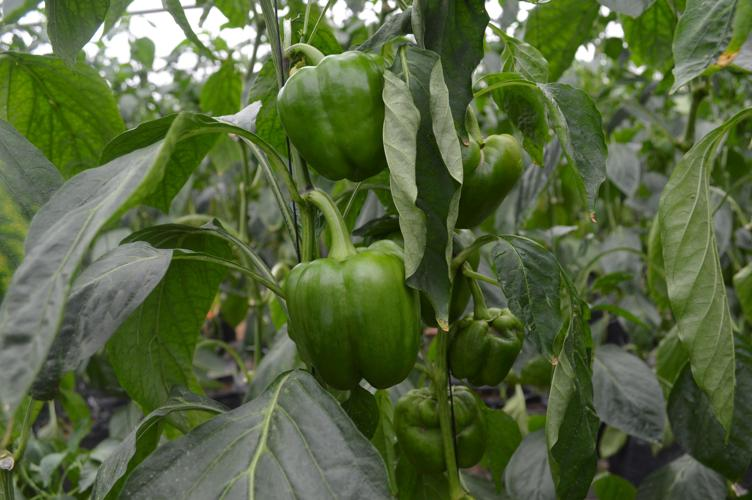BellPepper: (282, 250, 424, 389), (268, 44, 400, 187), (432, 110, 532, 239), (389, 385, 492, 474), (443, 307, 534, 390)
